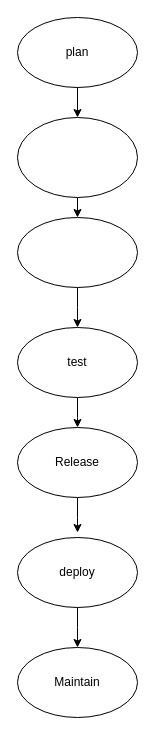
Some shapes in this 155 by 735 pixel diagram are drawn without their labels. Each missing label, with the centre of its shape:
"Build" belongs at point (77, 252).
"develop" belongs at point (77, 157).
